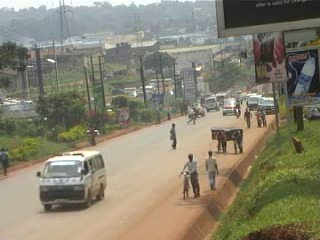Car: (220, 96, 241, 116), (185, 101, 206, 119)
Motorcycle: (231, 102, 242, 119)
